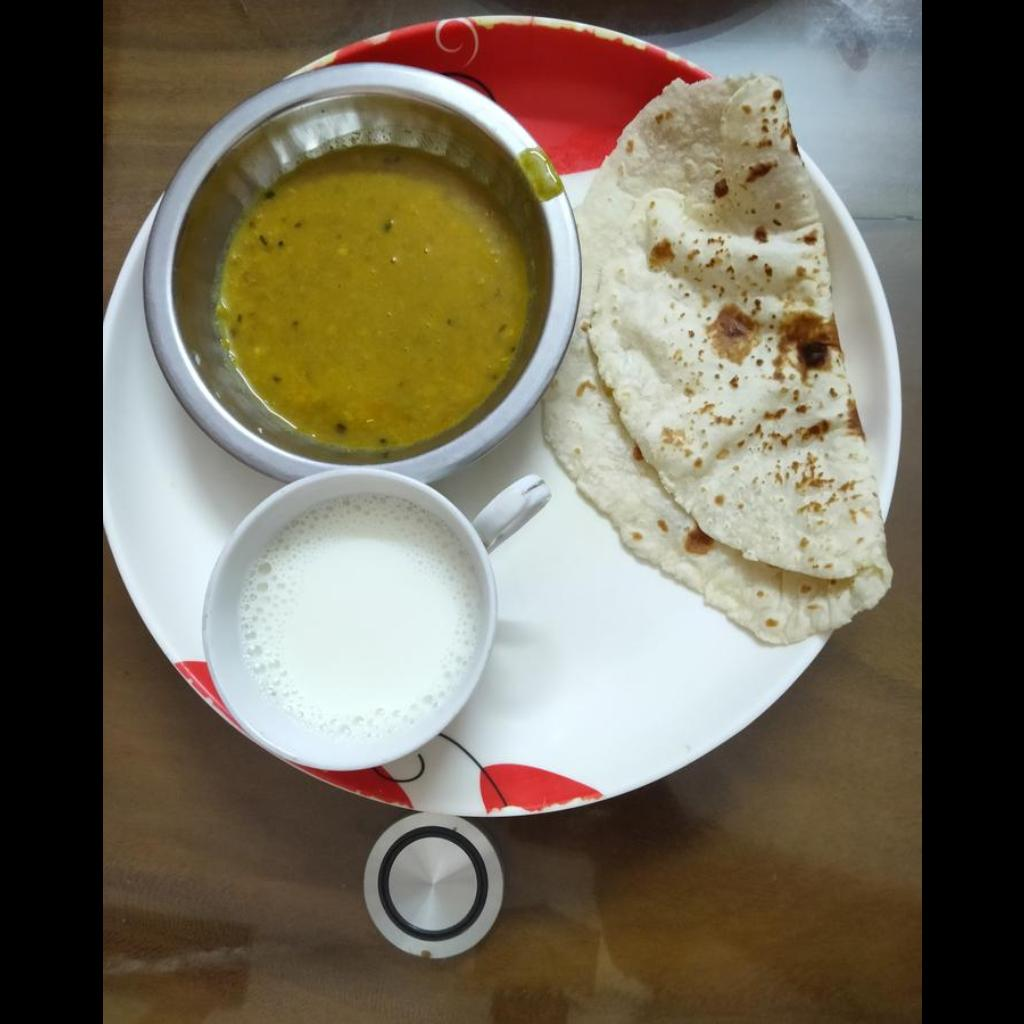daal: (222, 142, 524, 447)
milk: (247, 501, 471, 735)
ruti: (539, 75, 888, 645)
